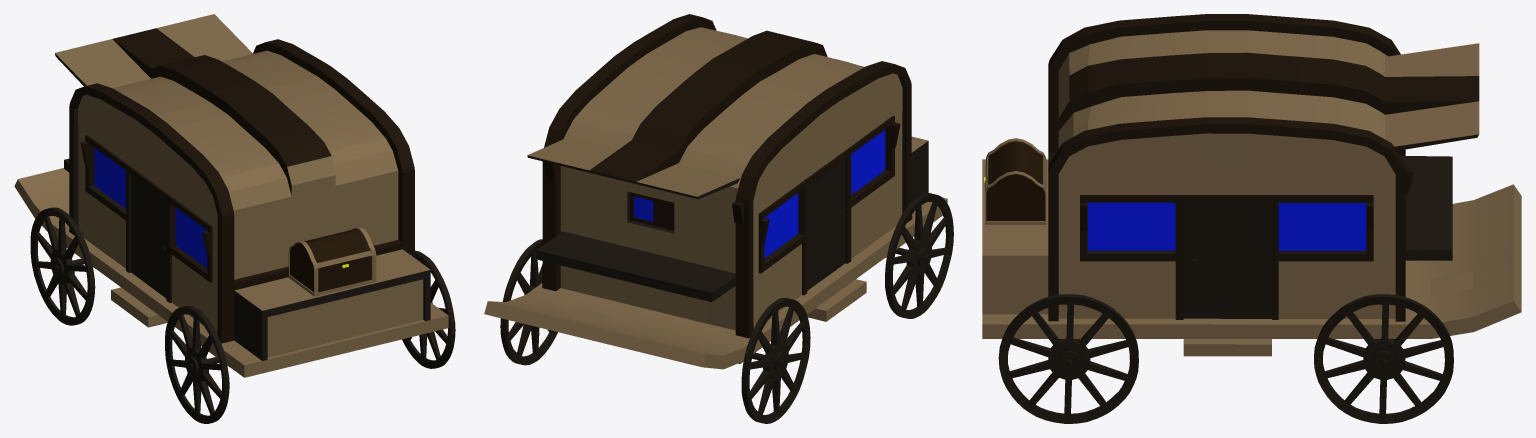
File: Carriage.obj
The picture shows the model from 3 angles, left to right: view 1: azimuth 30°, elevation 25°; view 2: azimuth 150°, elevation 25°; view 3: azimuth 270°, elevation 25°; orthographic projection. The views are drawn at different scales.
Parts seen in each view (by area): view 1: pCylinder11; view 2: pCylinder11; view 3: pCylinder11.
Part boxes in pixels (x1,y1,x2,y2): pCylinder11: (14,14,455,423); pCylinder11: (484,14,953,423); pCylinder11: (982,14,1521,423).
Size of the model in its own units: 83.01 by 82.18 by 137.
